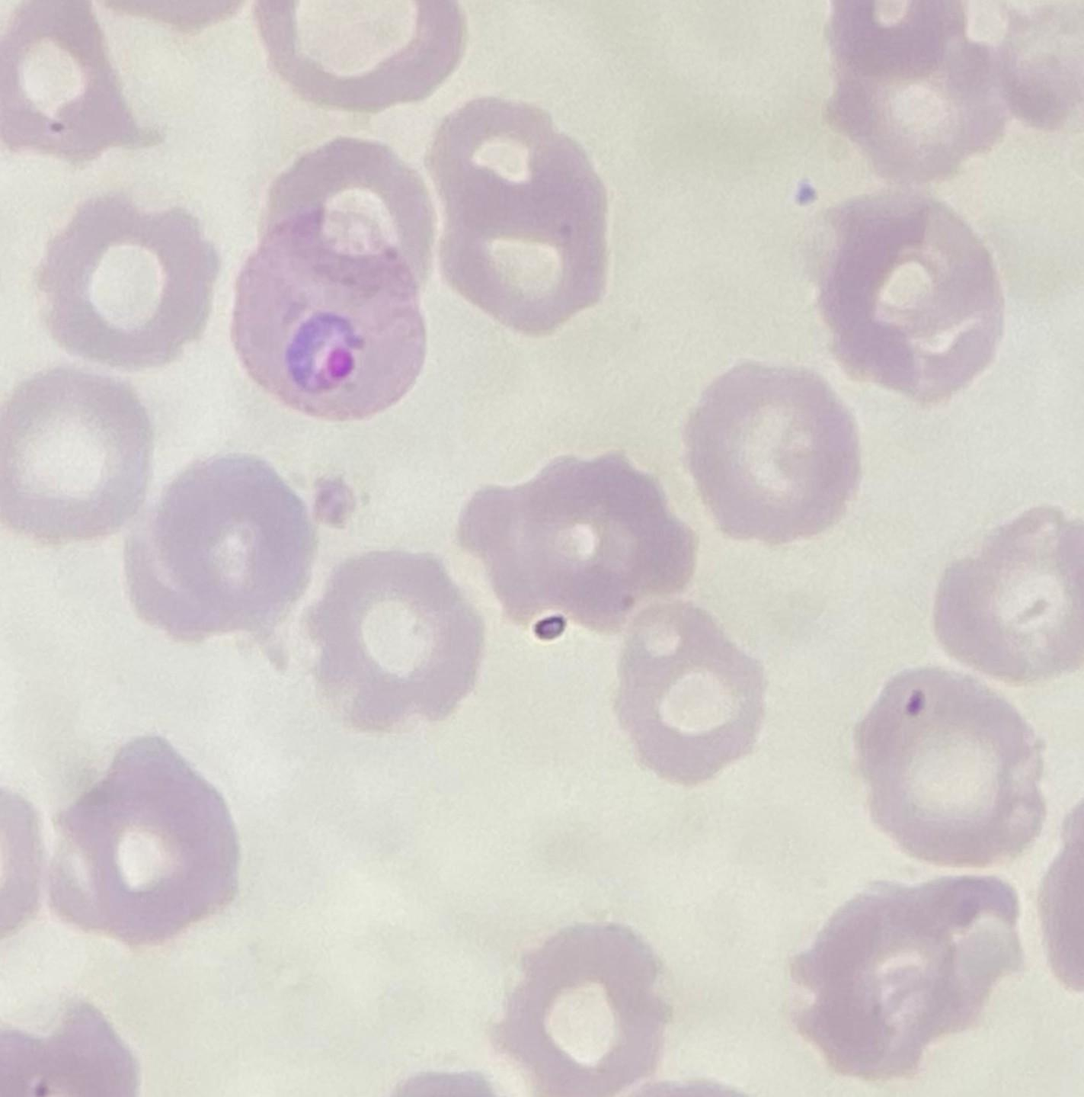Infected: (229, 209, 429, 420)
Uninfected: (790, 875, 1025, 1079), (460, 451, 703, 642), (427, 97, 612, 337), (797, 189, 1005, 401), (51, 733, 245, 945), (853, 667, 1040, 864), (122, 451, 314, 640), (683, 362, 859, 545), (36, 199, 224, 370), (310, 550, 487, 728), (503, 923, 668, 1097), (0, 362, 150, 547), (617, 606, 771, 786), (272, 138, 443, 296)
